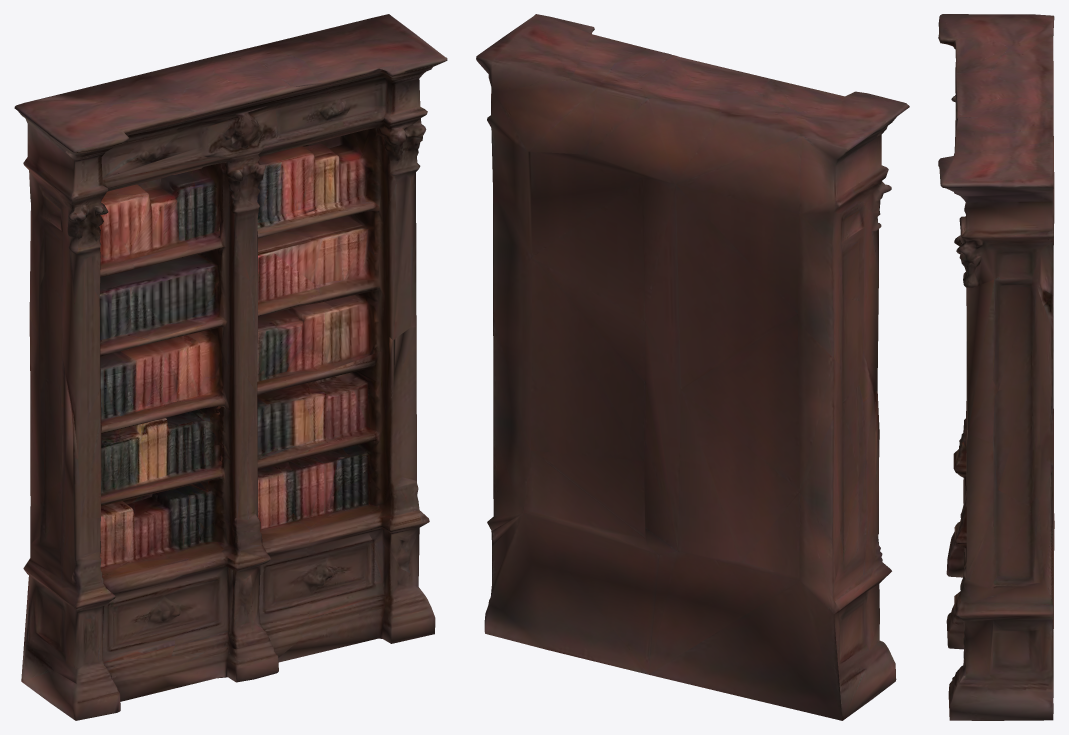
The model's file is Meshy_AI_Ornate_Carved_Mahogan_0703074833_texture.glb.
3 views of the same model, side by side, from view 1: azimuth 30°, elevation 25°; view 2: azimuth 150°, elevation 25°; view 3: azimuth 270°, elevation 25° (orthographic). The views are drawn at different scales.
Size of the model in its own units: 1.36 by 2 by 0.3899.
1 material, 1 textured.
